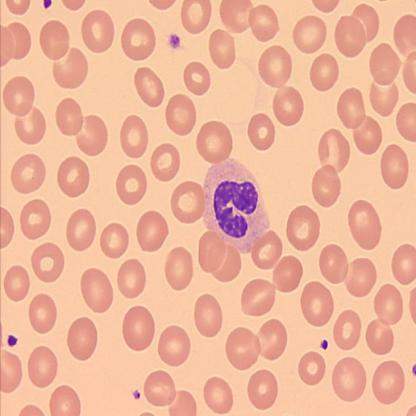Band Neutrophil: (200, 156, 272, 256)
